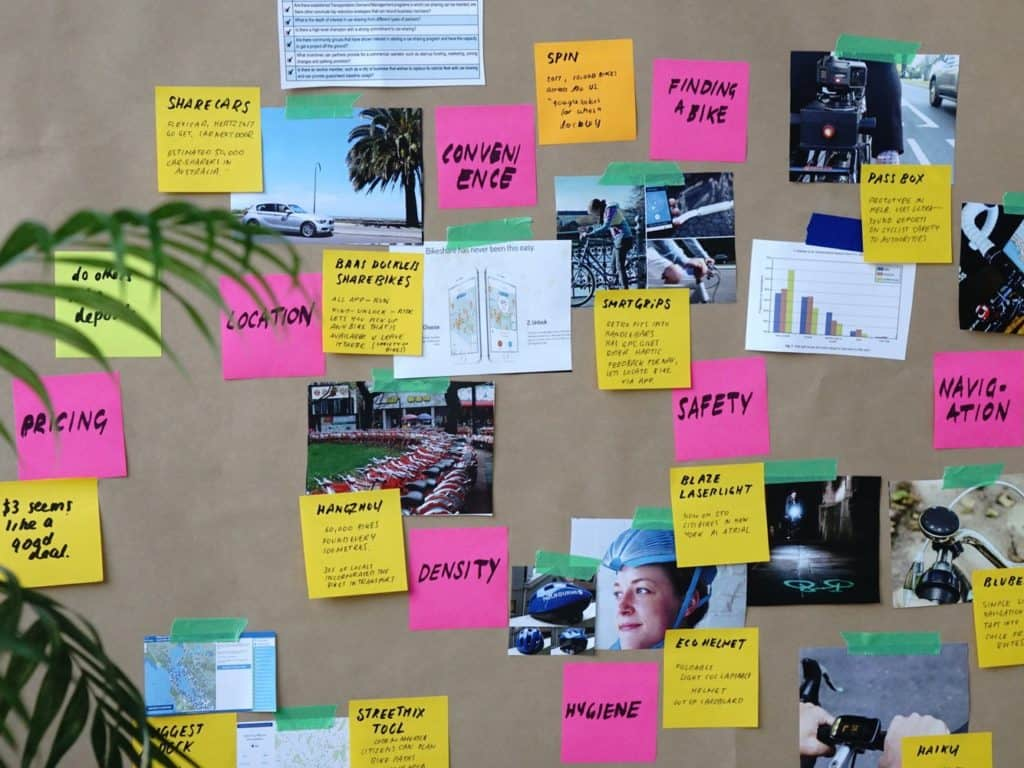stickynote: (11, 367, 137, 484), (151, 79, 267, 195), (299, 486, 414, 600), (53, 251, 163, 362), (321, 248, 428, 361), (646, 51, 752, 165), (532, 37, 643, 145), (216, 272, 329, 378), (1, 482, 109, 588), (430, 103, 543, 204), (669, 459, 772, 569), (669, 352, 769, 462), (557, 659, 662, 762), (594, 286, 697, 389), (408, 526, 510, 629), (662, 625, 764, 728), (859, 160, 955, 268), (928, 347, 1024, 449), (350, 695, 450, 768), (971, 565, 1024, 672), (898, 731, 996, 768)
